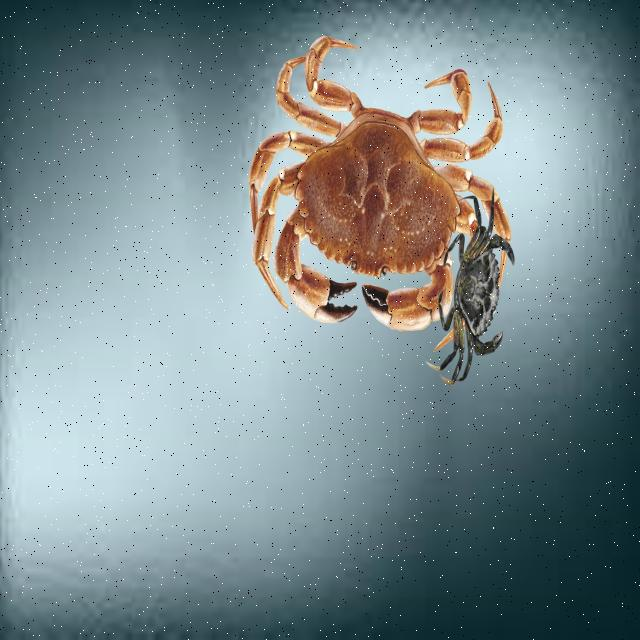European_Green_Crab: (423, 173, 525, 401)
